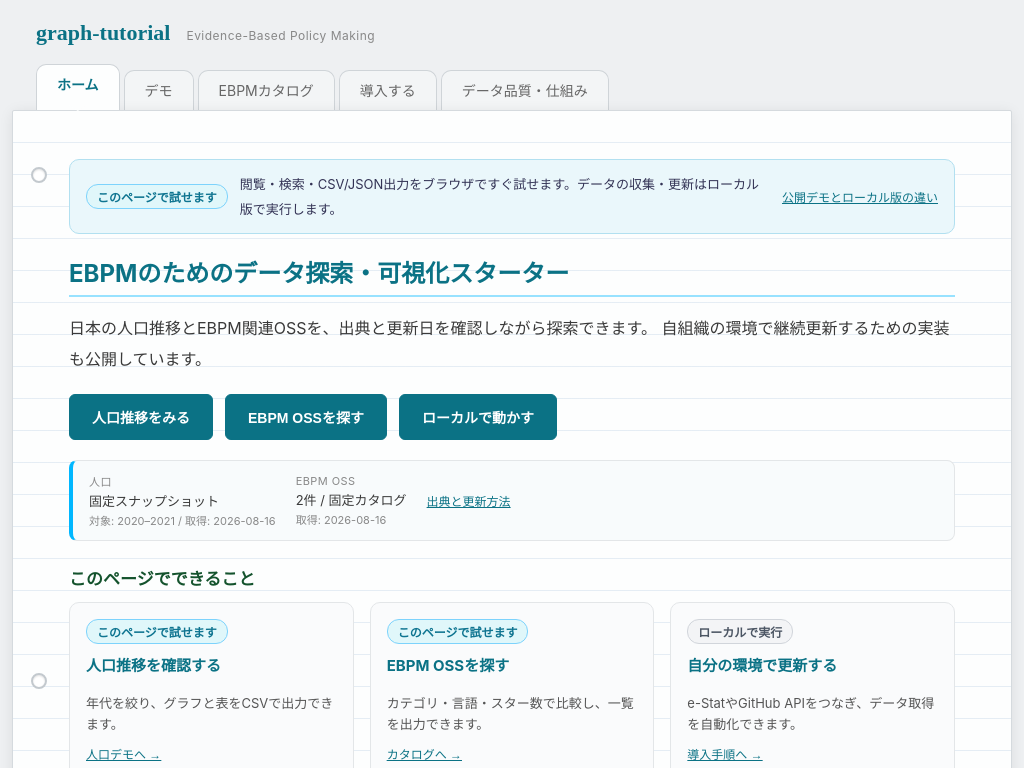
Test: App › 導入するタブでコレクタ実行 UI がサーバ未接続時に劣化表示される
Click the tab "導入する". click: [388, 93]
box: [339, 70, 437, 116]
(page scrolled)
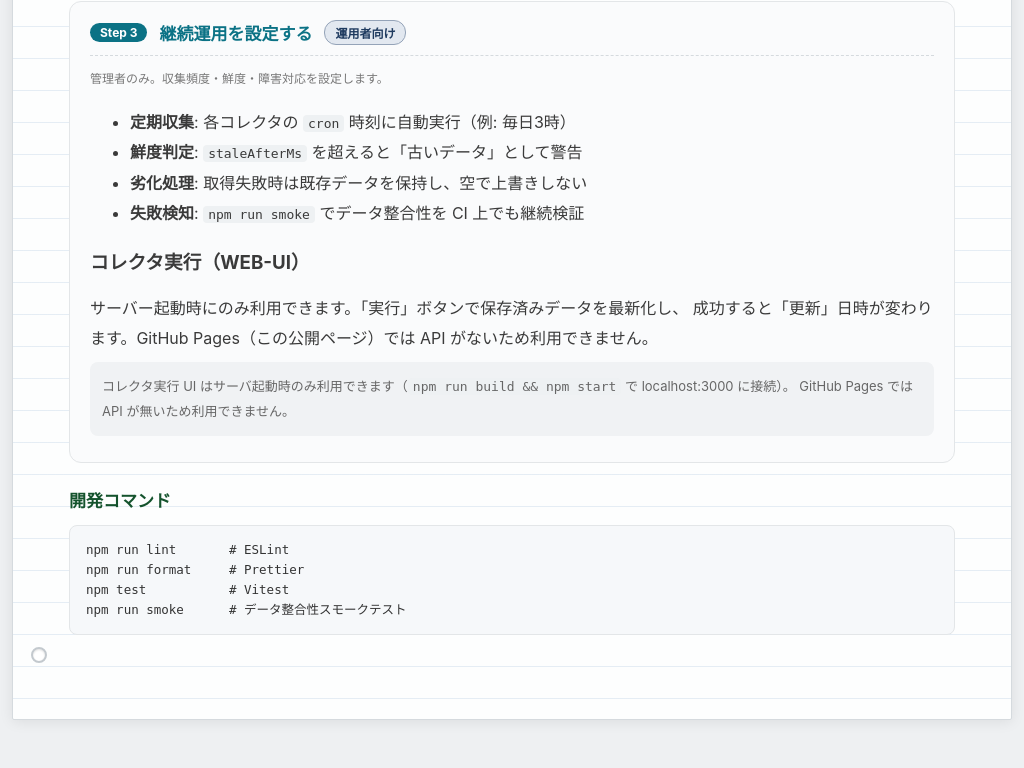
Check: the text "サーバ起動時のみ利用できます" is shown, box [102, 378, 408, 394]
